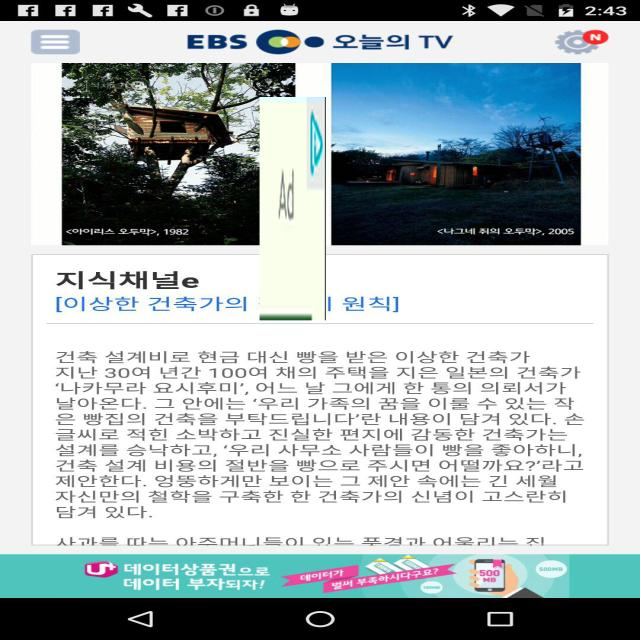sneaking: (259, 97, 326, 320)
